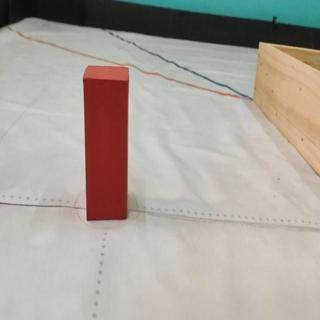redbox: (84, 62, 129, 225)
